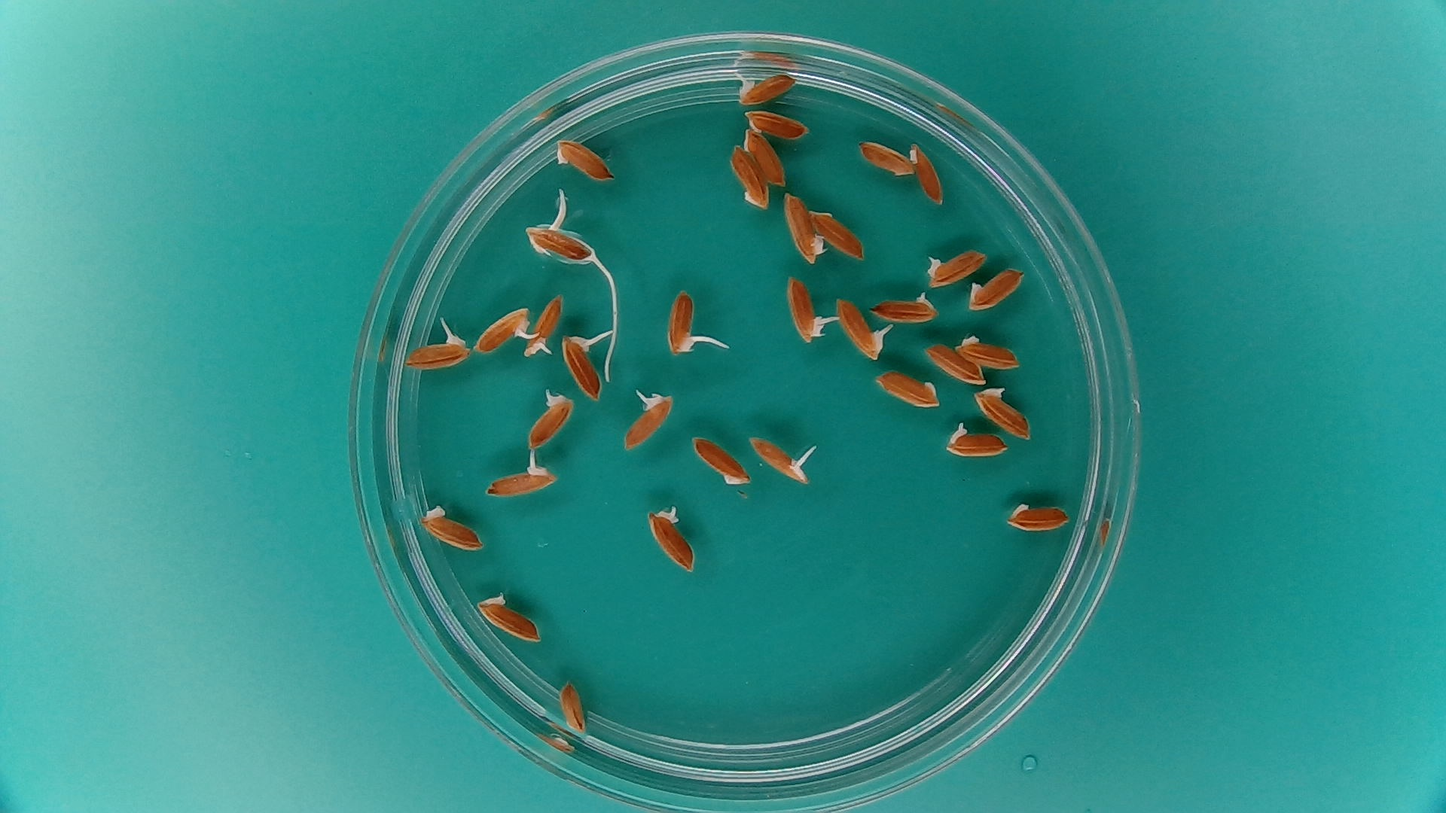no: (474, 589, 547, 646), (416, 501, 484, 553), (782, 189, 827, 267), (812, 206, 868, 263), (690, 434, 749, 486), (871, 369, 942, 412), (726, 143, 770, 212), (552, 135, 616, 182), (922, 340, 987, 386), (965, 265, 1027, 313), (740, 127, 787, 187), (953, 330, 1023, 370), (856, 135, 917, 179), (1001, 497, 1073, 534), (740, 106, 810, 142), (908, 142, 946, 207), (554, 674, 591, 739)
yes: (832, 294, 892, 363), (522, 217, 602, 266), (971, 382, 1035, 441), (621, 386, 677, 452), (747, 434, 819, 485), (643, 510, 697, 578), (482, 455, 560, 501), (523, 388, 577, 452), (784, 273, 831, 346), (471, 303, 533, 357), (403, 321, 471, 370), (561, 327, 604, 399), (940, 419, 1011, 462), (664, 286, 705, 358), (522, 288, 564, 358), (923, 245, 990, 288), (733, 67, 801, 106), (869, 288, 941, 324)
